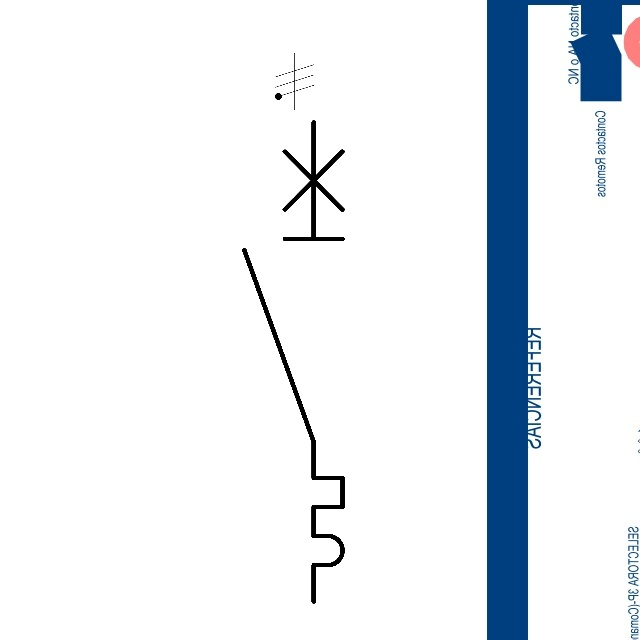interruptor_termomagnetico: (232, 110, 355, 614)
